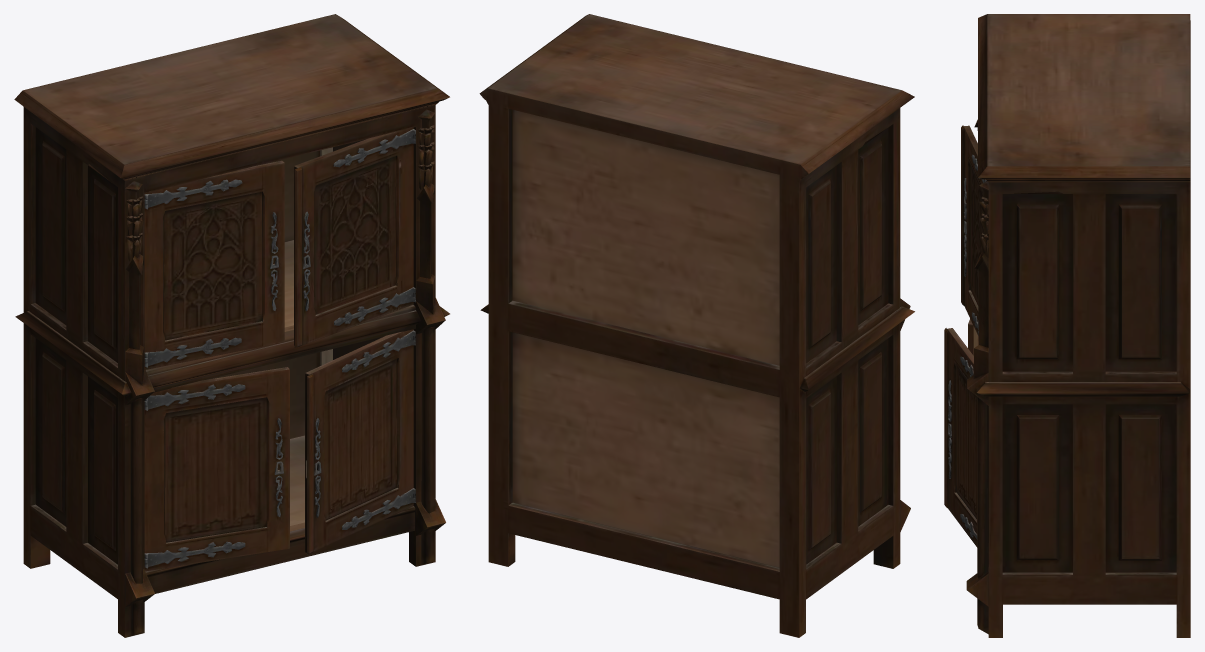
File: GothicCabinet_01.glb
The picture shows the model from 3 angles, left to right: view 1: azimuth 30°, elevation 25°; view 2: azimuth 150°, elevation 25°; view 3: azimuth 270°, elevation 25°; orthographic projection.
Visible parts, largest first — view 1: GothicCabinet_01_cabinet, GothicCabinet_01_door3, GothicCabinet_01_door1, GothicCabinet_01_door2, GothicCabinet_01_door4; view 2: GothicCabinet_01_cabinet; view 3: GothicCabinet_01_cabinet, GothicCabinet_01_door4, GothicCabinet_01_door2.
Boxes of the visible parts, bbox=[...] form: GothicCabinet_01_cabinet: bbox=[14, 14, 449, 637]; GothicCabinet_01_door3: bbox=[144, 367, 289, 571]; GothicCabinet_01_door1: bbox=[144, 160, 284, 369]; GothicCabinet_01_door2: bbox=[294, 127, 415, 347]; GothicCabinet_01_door4: bbox=[305, 329, 415, 554]; GothicCabinet_01_cabinet: bbox=[479, 14, 914, 637]; GothicCabinet_01_cabinet: bbox=[966, 14, 1190, 637]; GothicCabinet_01_door4: bbox=[944, 328, 977, 547]; GothicCabinet_01_door2: bbox=[961, 125, 988, 335].
Size of the model in its own units: 1.72 by 2.36 by 1.12.
Materials: 1 (1 with a texture image).
